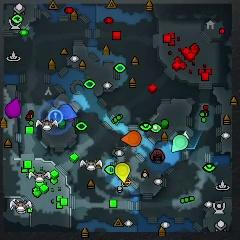Other: (49, 109, 63, 124)
p1: (60, 104, 77, 119)
p2: (172, 135, 188, 153)
p3: (6, 97, 21, 117)
p4: (116, 163, 130, 182)
p5: (121, 130, 141, 146)
